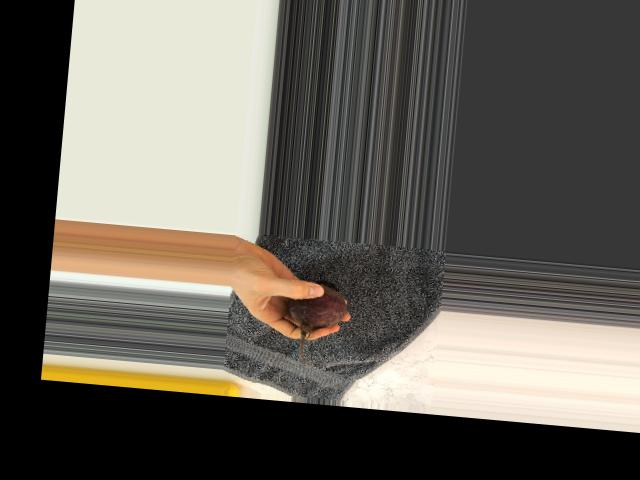beet: (283, 276, 349, 369)
